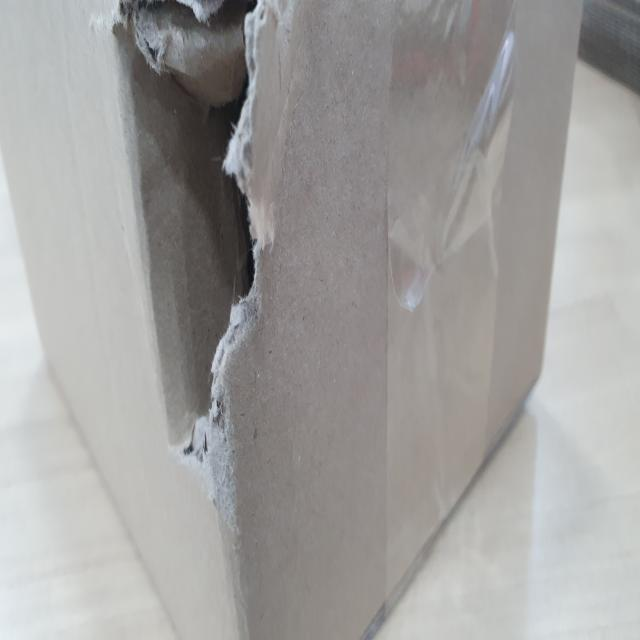hole: (114, 4, 276, 490)
